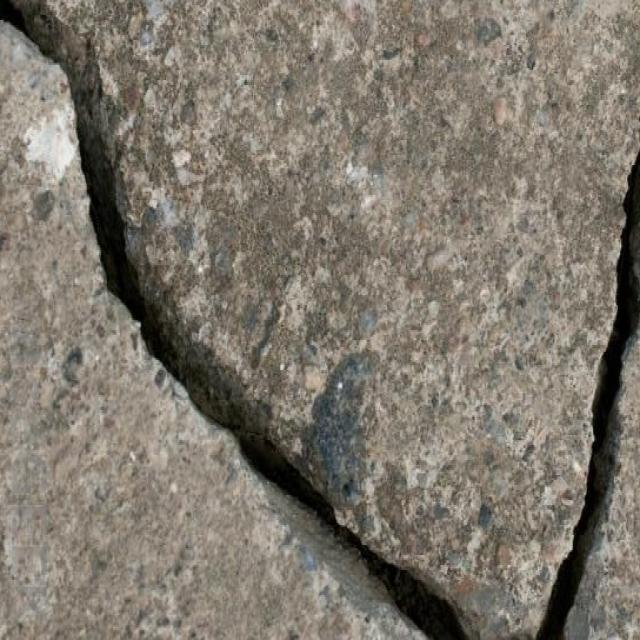Diagonal: (0, 0, 488, 631), (542, 143, 640, 640)
